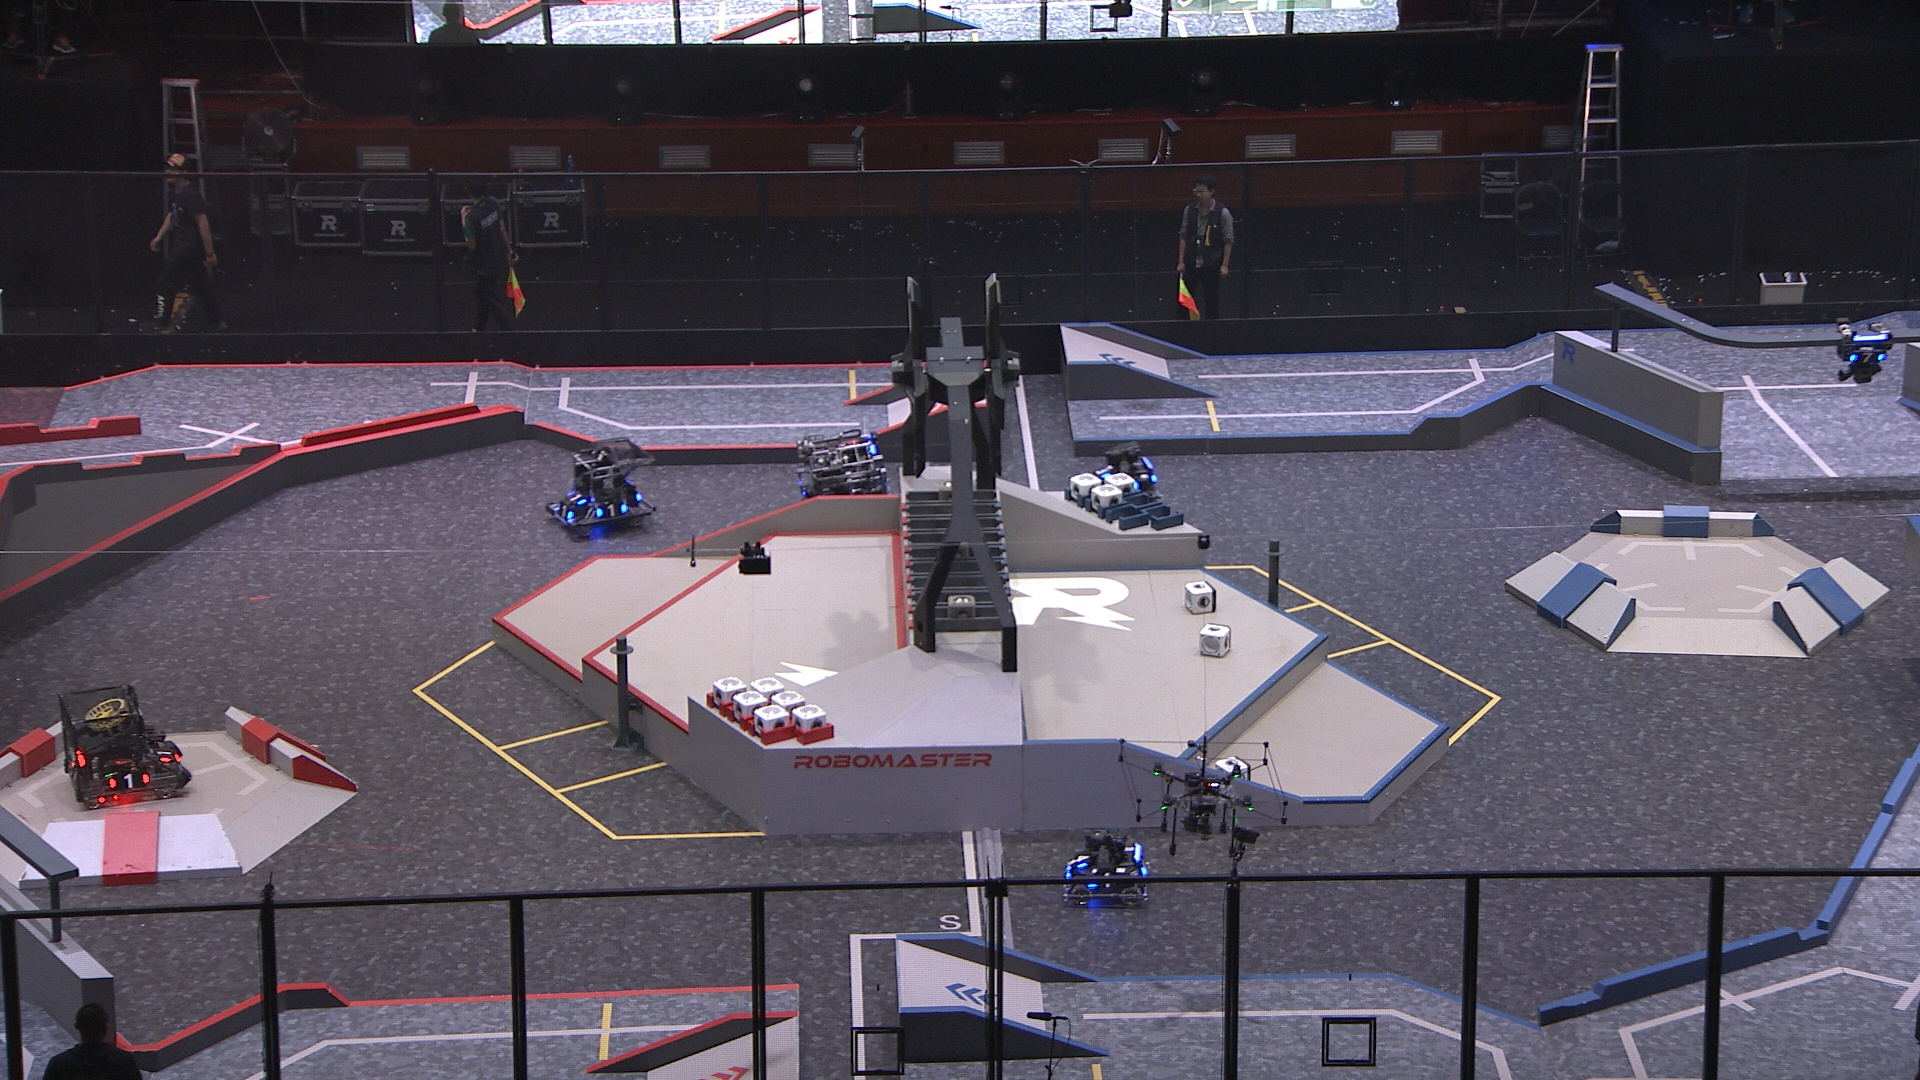armor: (109, 770, 150, 793), (1091, 870, 1116, 891), (564, 488, 591, 508), (153, 742, 175, 765), (595, 502, 626, 518), (1851, 351, 1884, 365), (556, 504, 574, 524), (1072, 851, 1088, 872), (67, 764, 80, 789)
car: (55, 687, 193, 808), (793, 425, 893, 541), (545, 436, 655, 537), (1076, 440, 1182, 542), (1059, 825, 1153, 910)
watcher: (1837, 319, 1894, 382)
